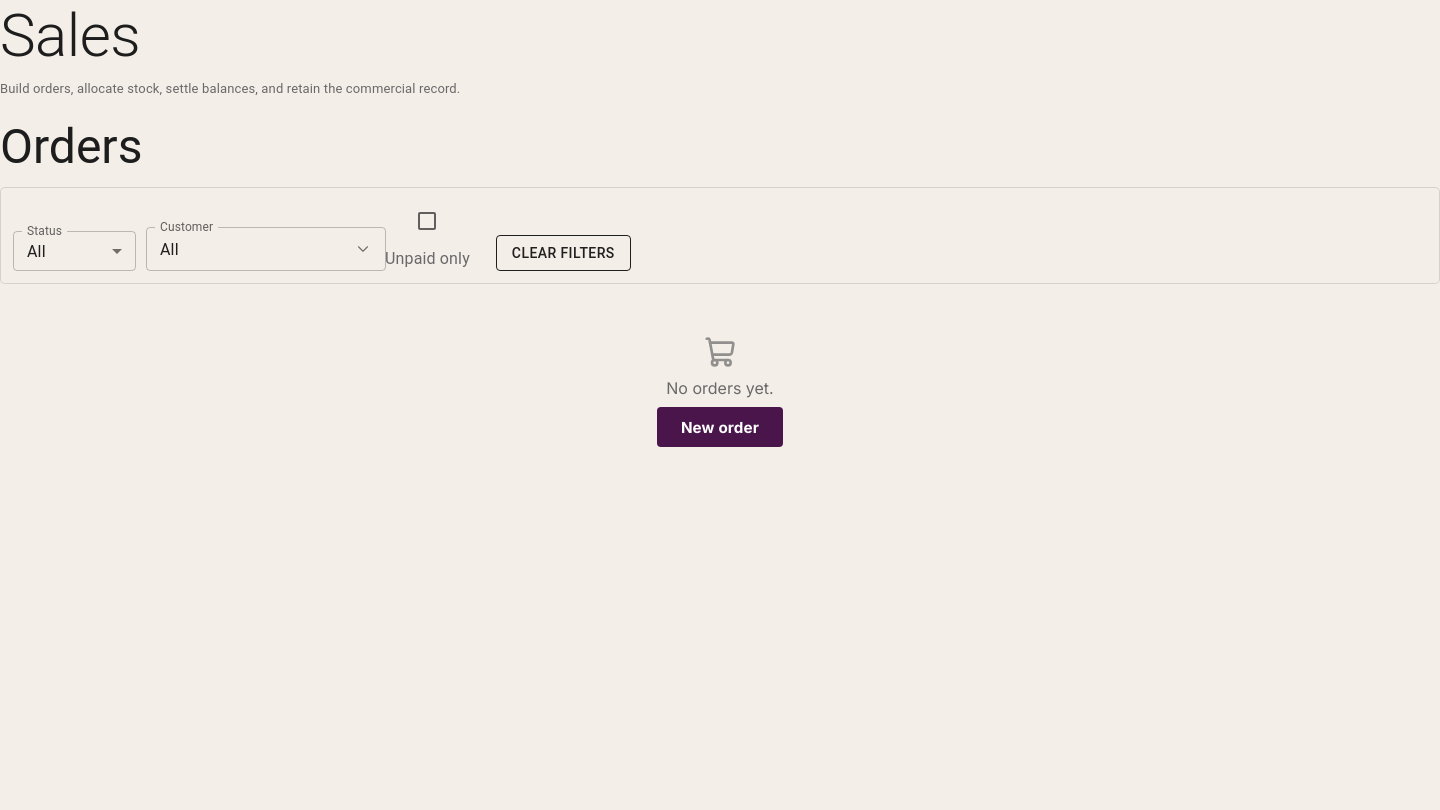
Scenario: SalesPage quantity steppers (#250) › steps the add-line quantity with −/+ and floors it at 1
The width and height of the screenshot is (1440, 810).
Step 1. Click the button "New order" → (720,427), box [657,407,783,448]
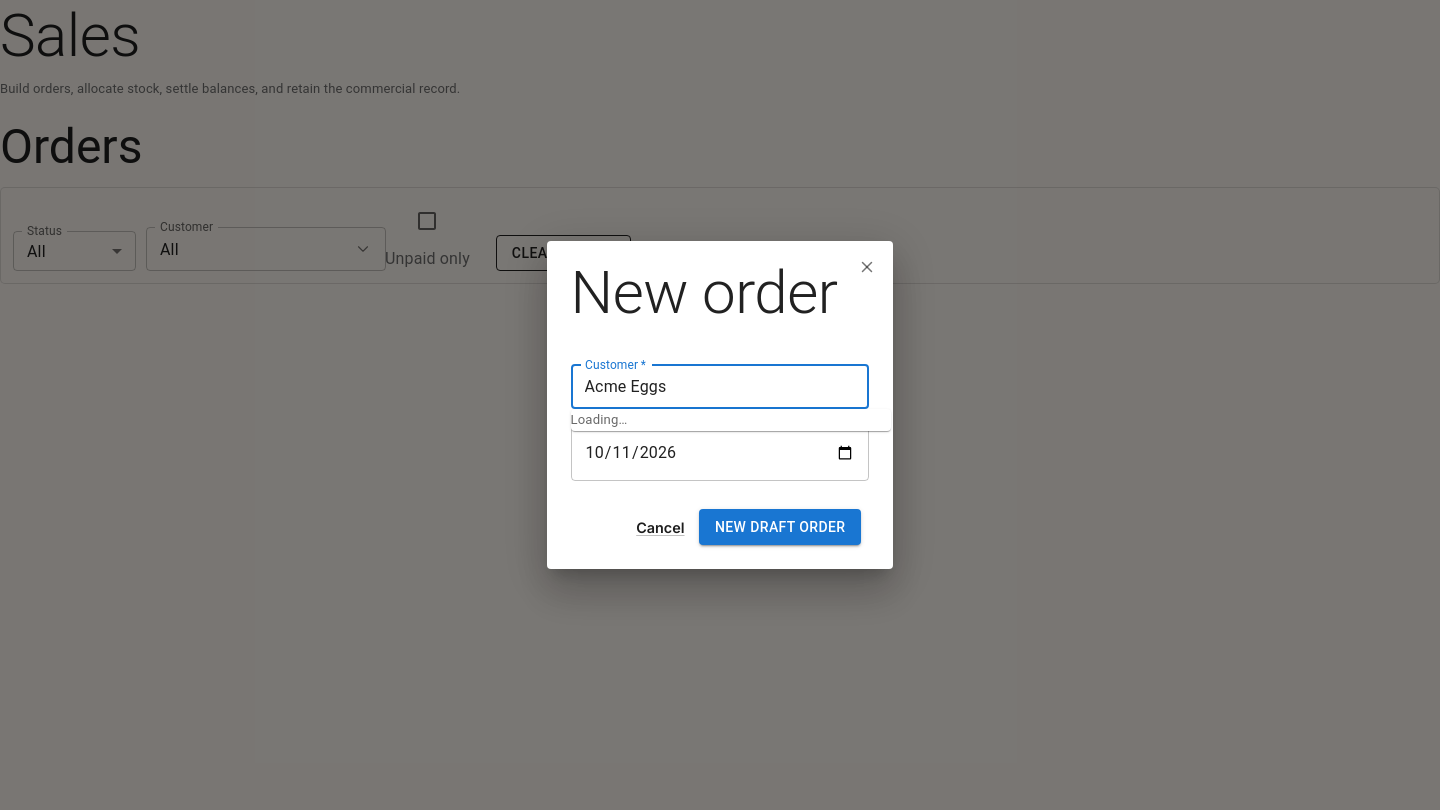
Step 2. Click the button "New draft order" → (780,527), box [699,509,861,545]
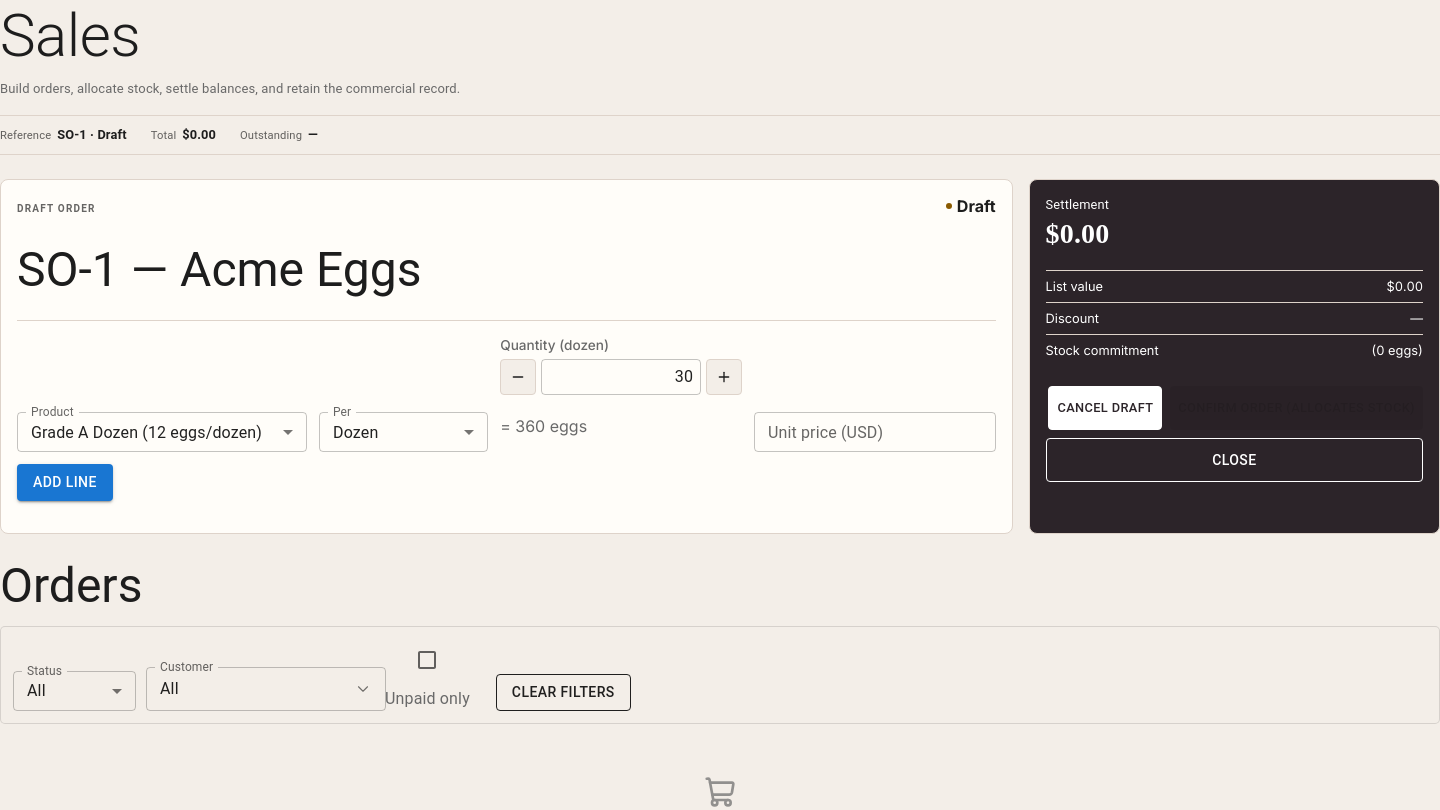
Check: the heading "SO-1 — Acme Eggs" is shown, box [17,242,422,298]
Check: the dialog is gone
Step 3. Replace the text in the number field labelled "Quantity (dozen)" with "2" → (621,377), box [541,359,701,395]
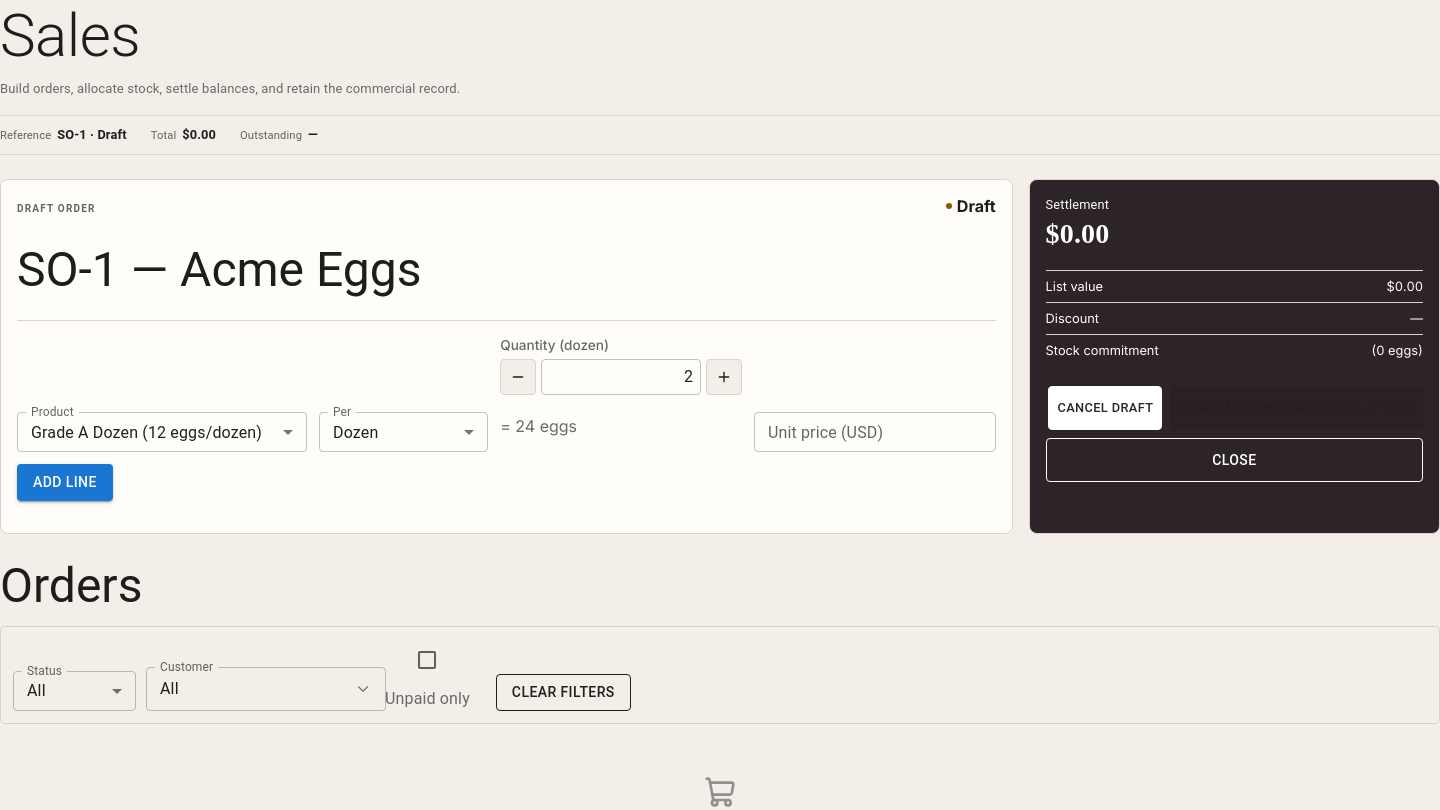
Step 4. Click the button named "Decrease quantity (dozen)" → (518,377), box [500,359,536,395]
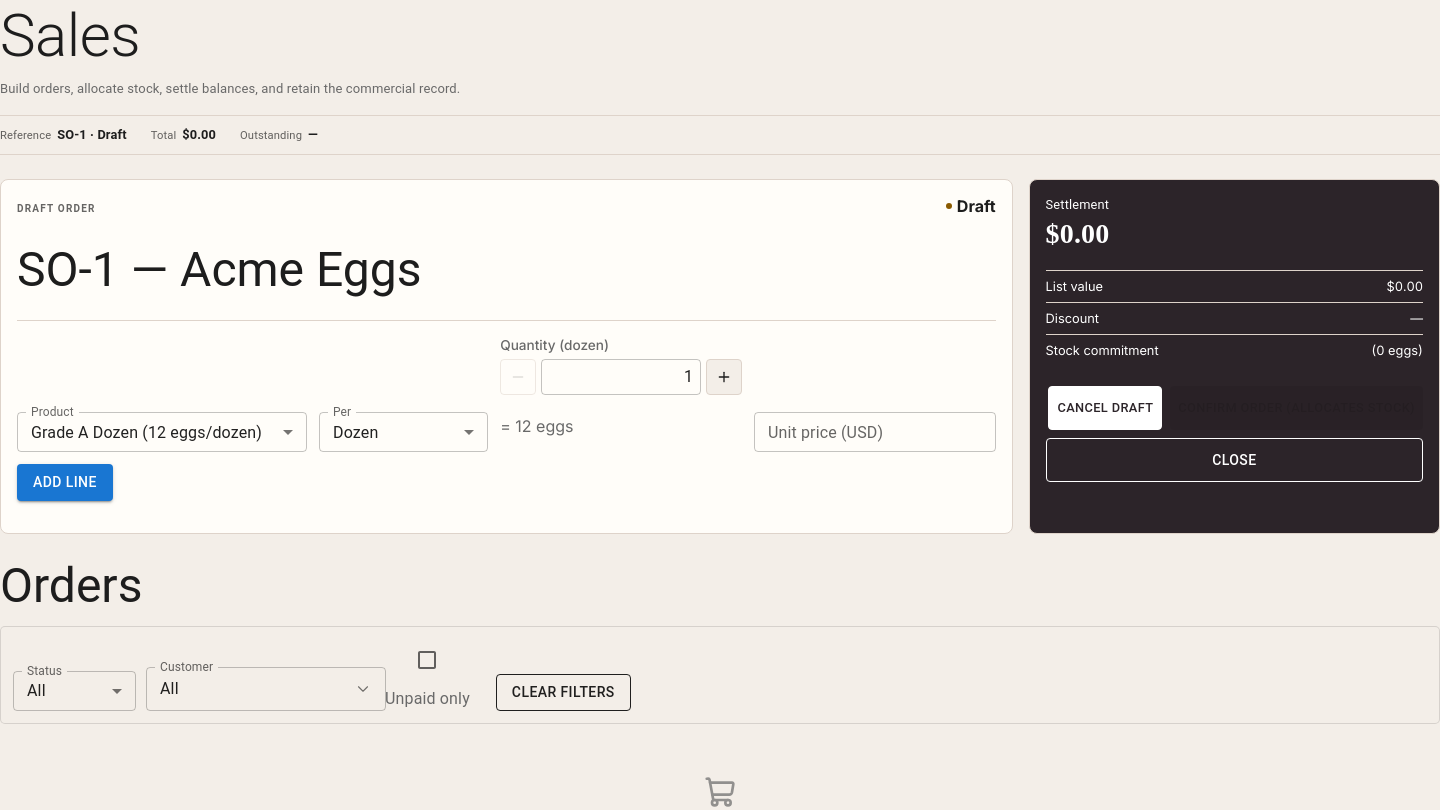
Check: the number field labelled "Quantity (dozen)" holds "1", box [541,359,701,395]
Step 5. Click the button named "Increase quantity (dozen)" → (724,377), box [706,359,742,395]
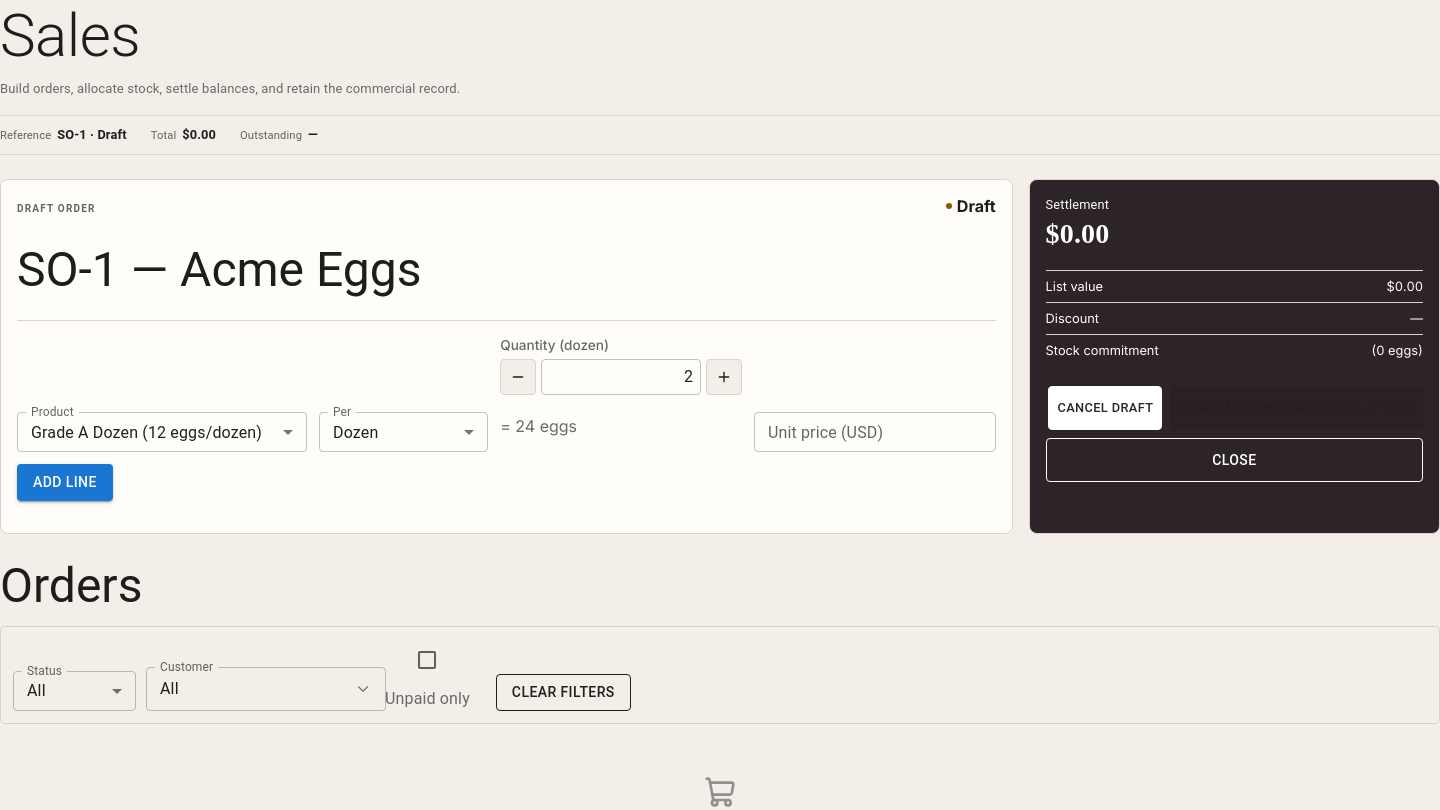
Step 6. Replace the text in the number field labelled "Quantity (dozen)" with "0" → (621,377), box [541,359,701,395]
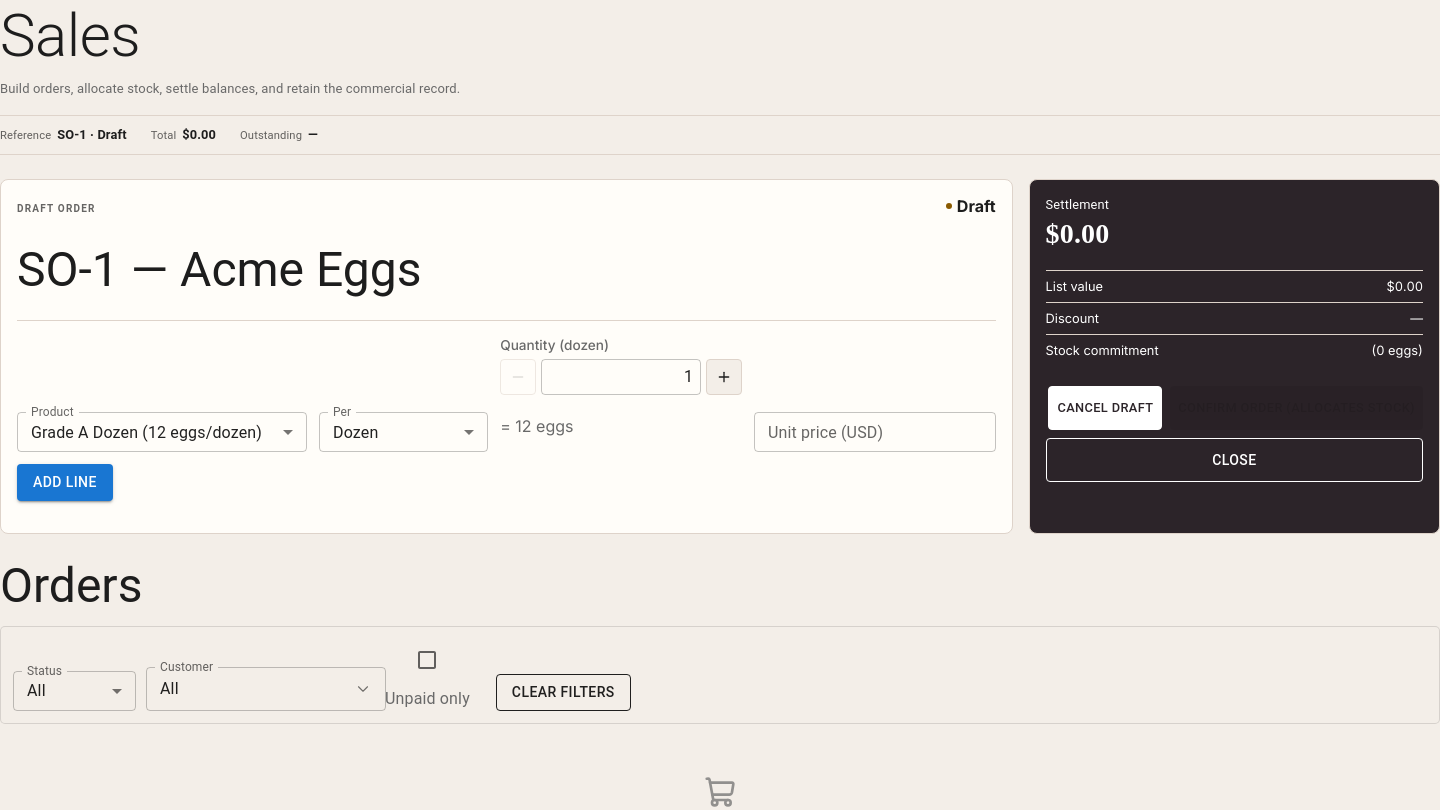
Check: the number field labelled "Quantity (dozen)" holds "1", box [541,359,701,395]
